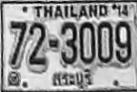0: (79, 22, 95, 63), (97, 22, 112, 62)
2: (28, 22, 46, 63)
3: (60, 22, 76, 64)
7: (8, 20, 26, 66)
9: (115, 20, 131, 62)
SRI: (50, 69, 94, 90)
